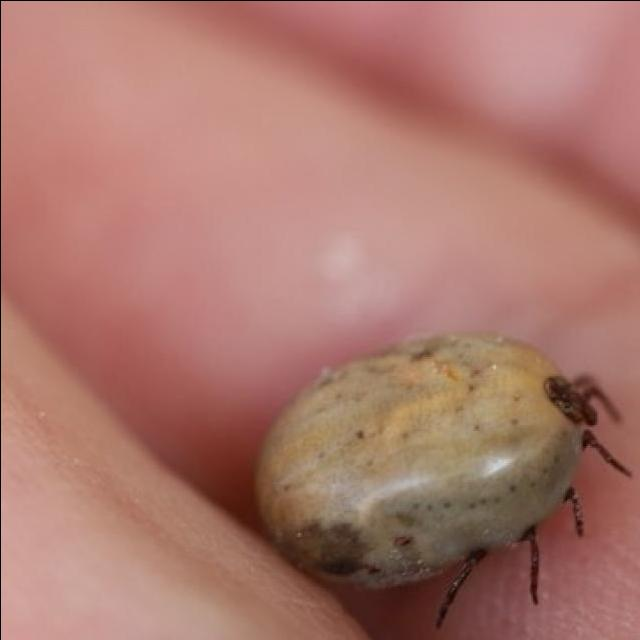Dermacentor Reticulatus-F-Fed: (255, 333, 633, 631)
